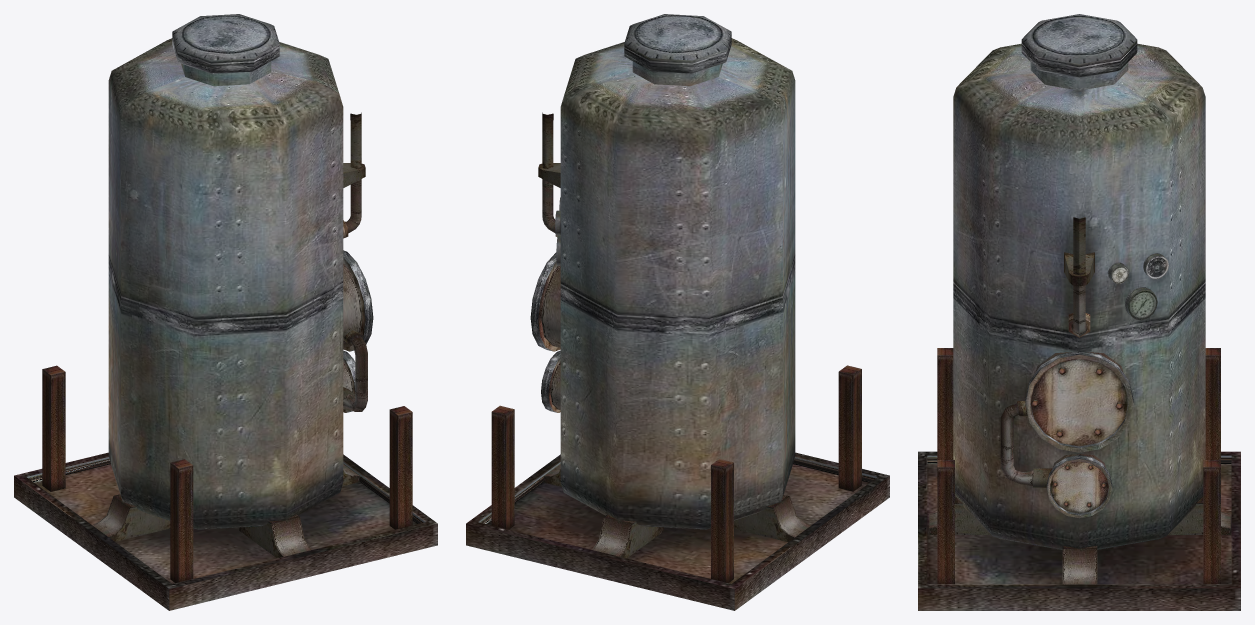
The model's file is Processor.glb.
3 views of the same model, side by side, from view 1: azimuth 30°, elevation 25°; view 2: azimuth 150°, elevation 25°; view 3: azimuth 270°, elevation 25° (orthographic). The views are drawn at different scales.
Visible parts, largest first — view 1: 0_Processor; view 2: 0_Processor; view 3: 0_Processor.
Boxes of the visible parts, x1,y1,x2,y2 form: 0_Processor: (14,14,437,610); 0_Processor: (466,14,889,610); 0_Processor: (918,14,1240,610).
Bounding box in the file's own units: 1.58 × 2.73 × 1.55.
Materials: 1 (1 with a texture image).
